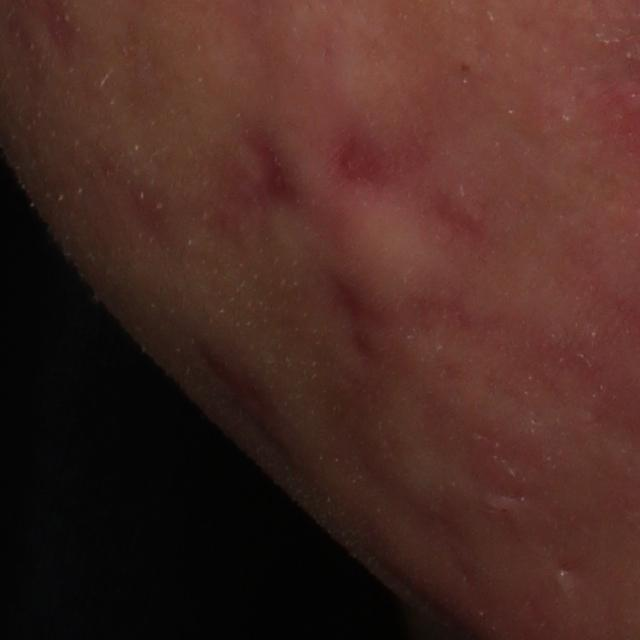atrophic_scar: (320, 259, 482, 372), (324, 110, 442, 193), (235, 122, 315, 223)
hypertrophic_scar: (342, 391, 500, 528), (320, 182, 445, 323), (425, 181, 497, 268)
